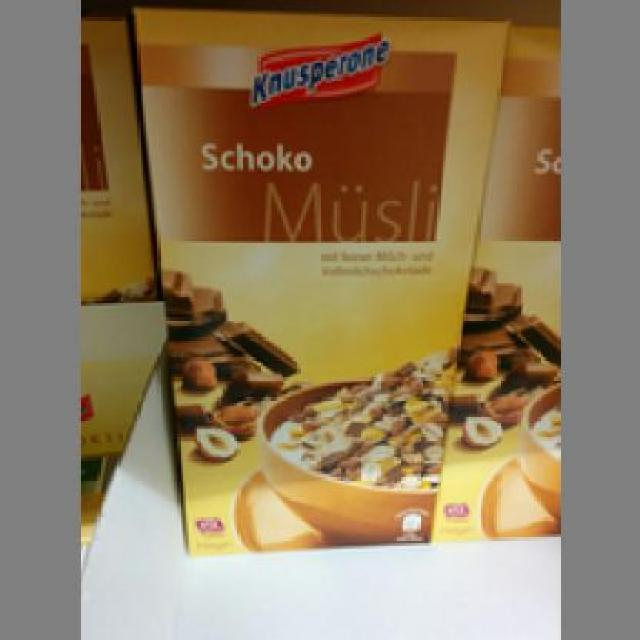Cereal: (132, 2, 512, 558)
